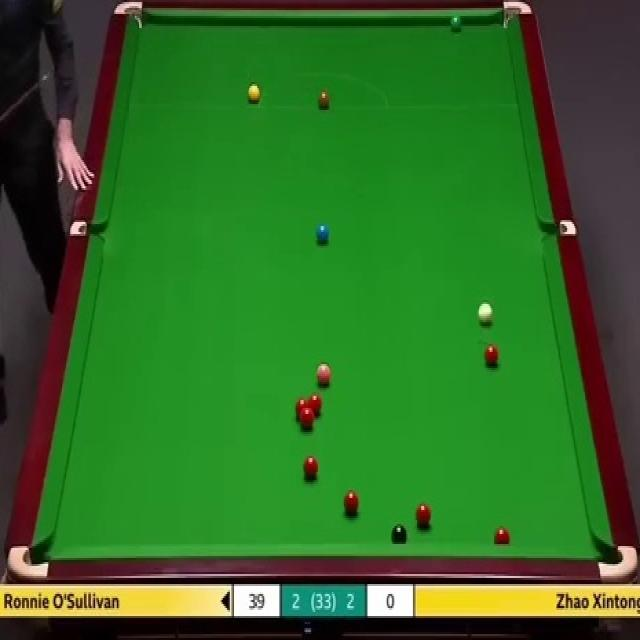black-ball: (391, 524, 408, 544)
blue-ball: (315, 221, 330, 247)
brown-ball: (317, 88, 331, 112)
green-ball: (450, 13, 462, 33)
pink-ball: (316, 360, 332, 388)
red-ball: (302, 454, 319, 482), (414, 503, 432, 528), (342, 491, 360, 515), (485, 344, 499, 368), (493, 526, 511, 544), (300, 406, 314, 428), (308, 394, 322, 413), (296, 398, 308, 414)
white-ball: (477, 300, 493, 325)
yellow-ball: (247, 81, 260, 105)
